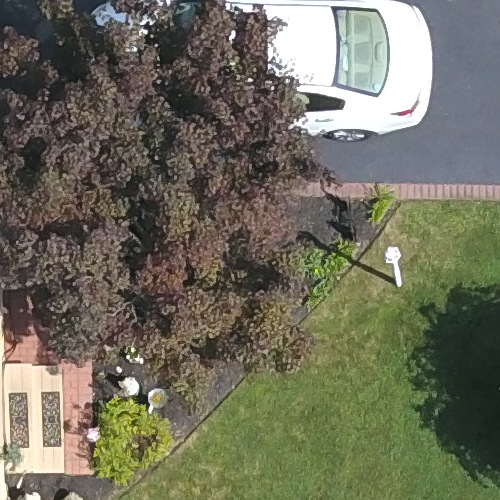container: (141, 386, 174, 413)
